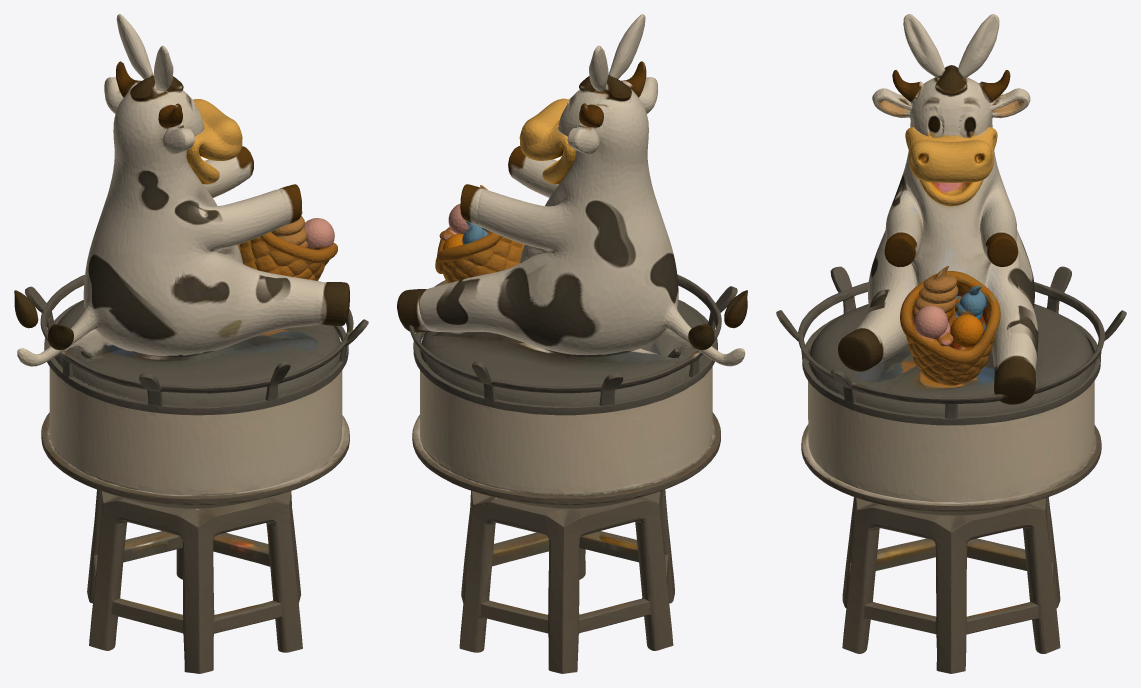
The model's file is vaquita.glb.
3 views of the same model, side by side, from view 1: azimuth 30°, elevation 25°; view 2: azimuth 150°, elevation 25°; view 3: azimuth 270°, elevation 25° (orthographic). The views are drawn at different scales.
Visible parts, largest first — view 1: tripo_node_8d914ab1-2dbd-419a-826f-4603f7a47660; view 2: tripo_node_8d914ab1-2dbd-419a-826f-4603f7a47660; view 3: tripo_node_8d914ab1-2dbd-419a-826f-4603f7a47660.
Part boxes in pixels (x1,y1,x2,y2): tripo_node_8d914ab1-2dbd-419a-826f-4603f7a47660: (14, 14, 368, 673); tripo_node_8d914ab1-2dbd-419a-826f-4603f7a47660: (397, 14, 747, 673); tripo_node_8d914ab1-2dbd-419a-826f-4603f7a47660: (776, 14, 1126, 673).
Bounding box in the file's own units: 0.5409 × 1 × 0.5394.
Materials: 1 (1 with a texture image).
